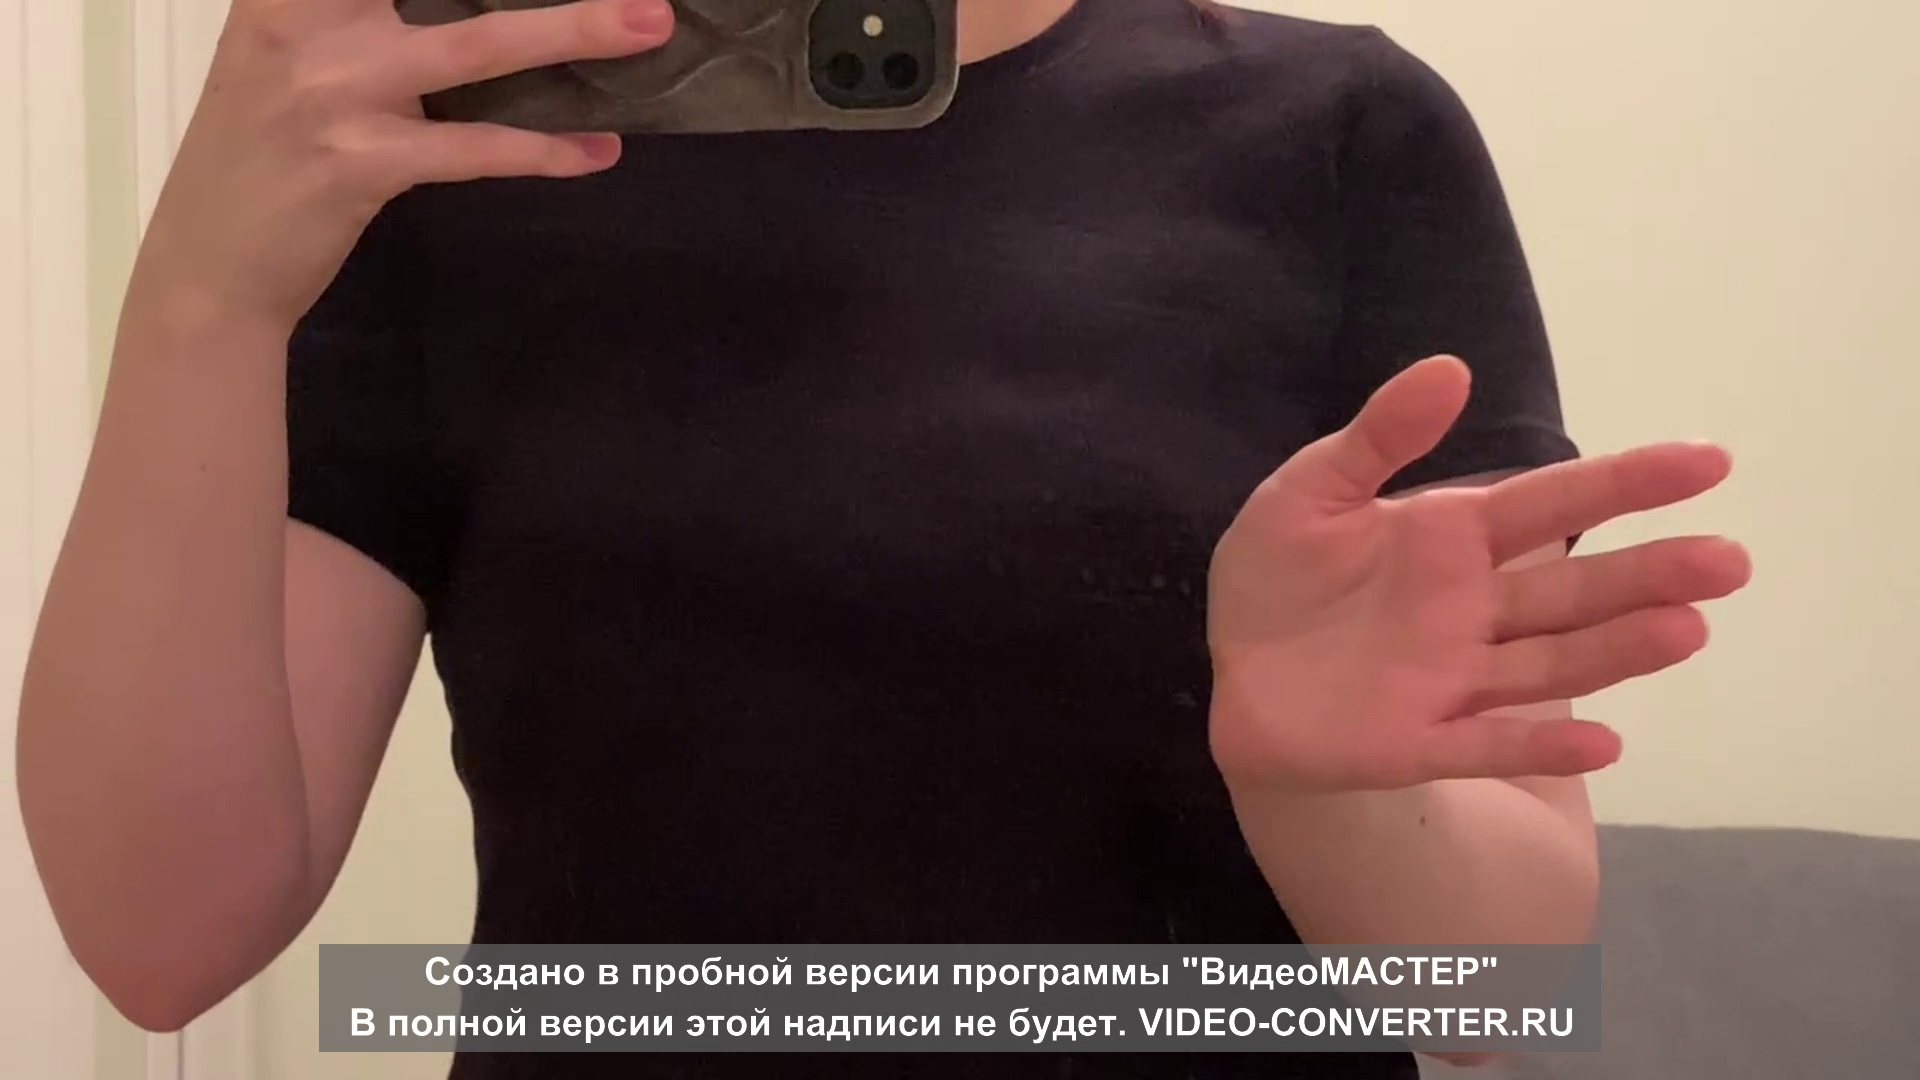Ладонь: (1205, 361, 1753, 773)
